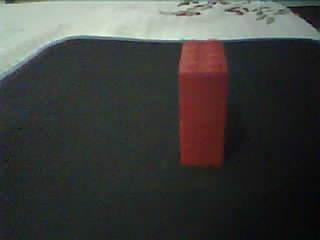lego: (177, 39, 229, 168)
